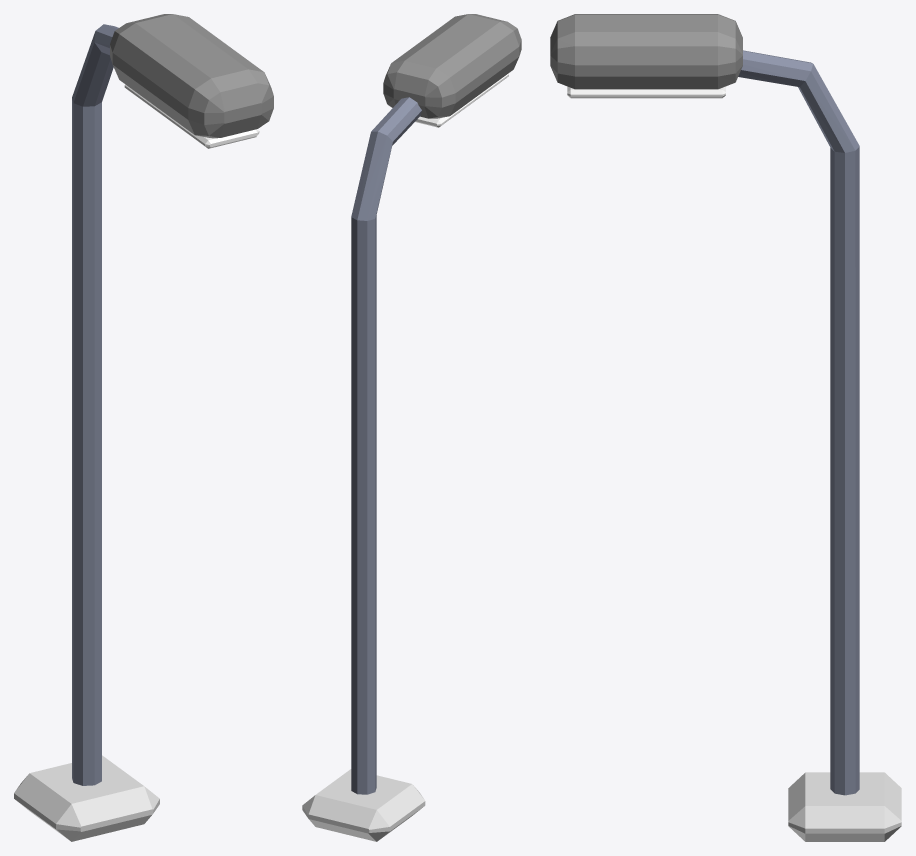
Rendered from street_lamp.obj.
3 renders of one model, left to right at view 1: azimuth 30°, elevation 25°; view 2: azimuth 150°, elevation 25°; view 3: azimuth 270°, elevation 25°, orthographic. The views are drawn at different scales.
Bounding box in the file's own units: 1 × 7.8 × 3.1.
